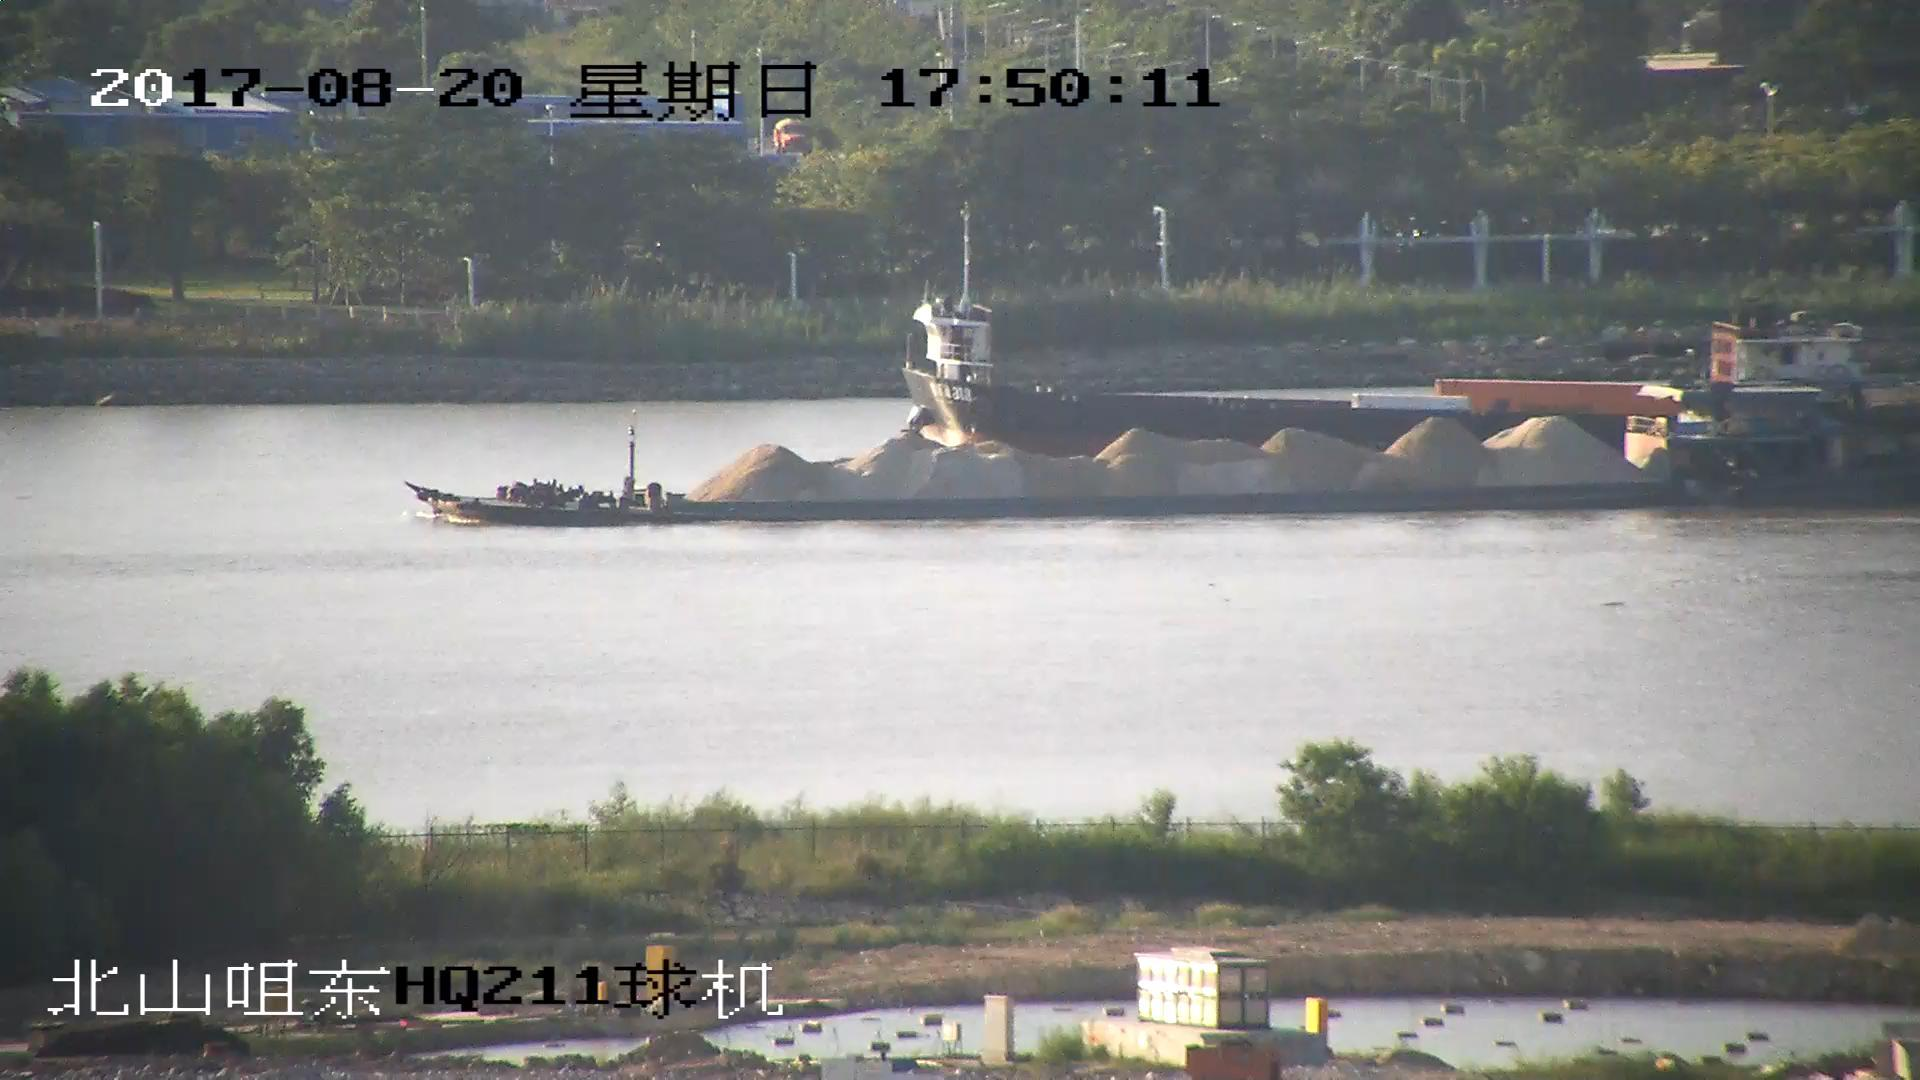Ship: (891, 202, 1869, 448), (415, 372, 1920, 522)
